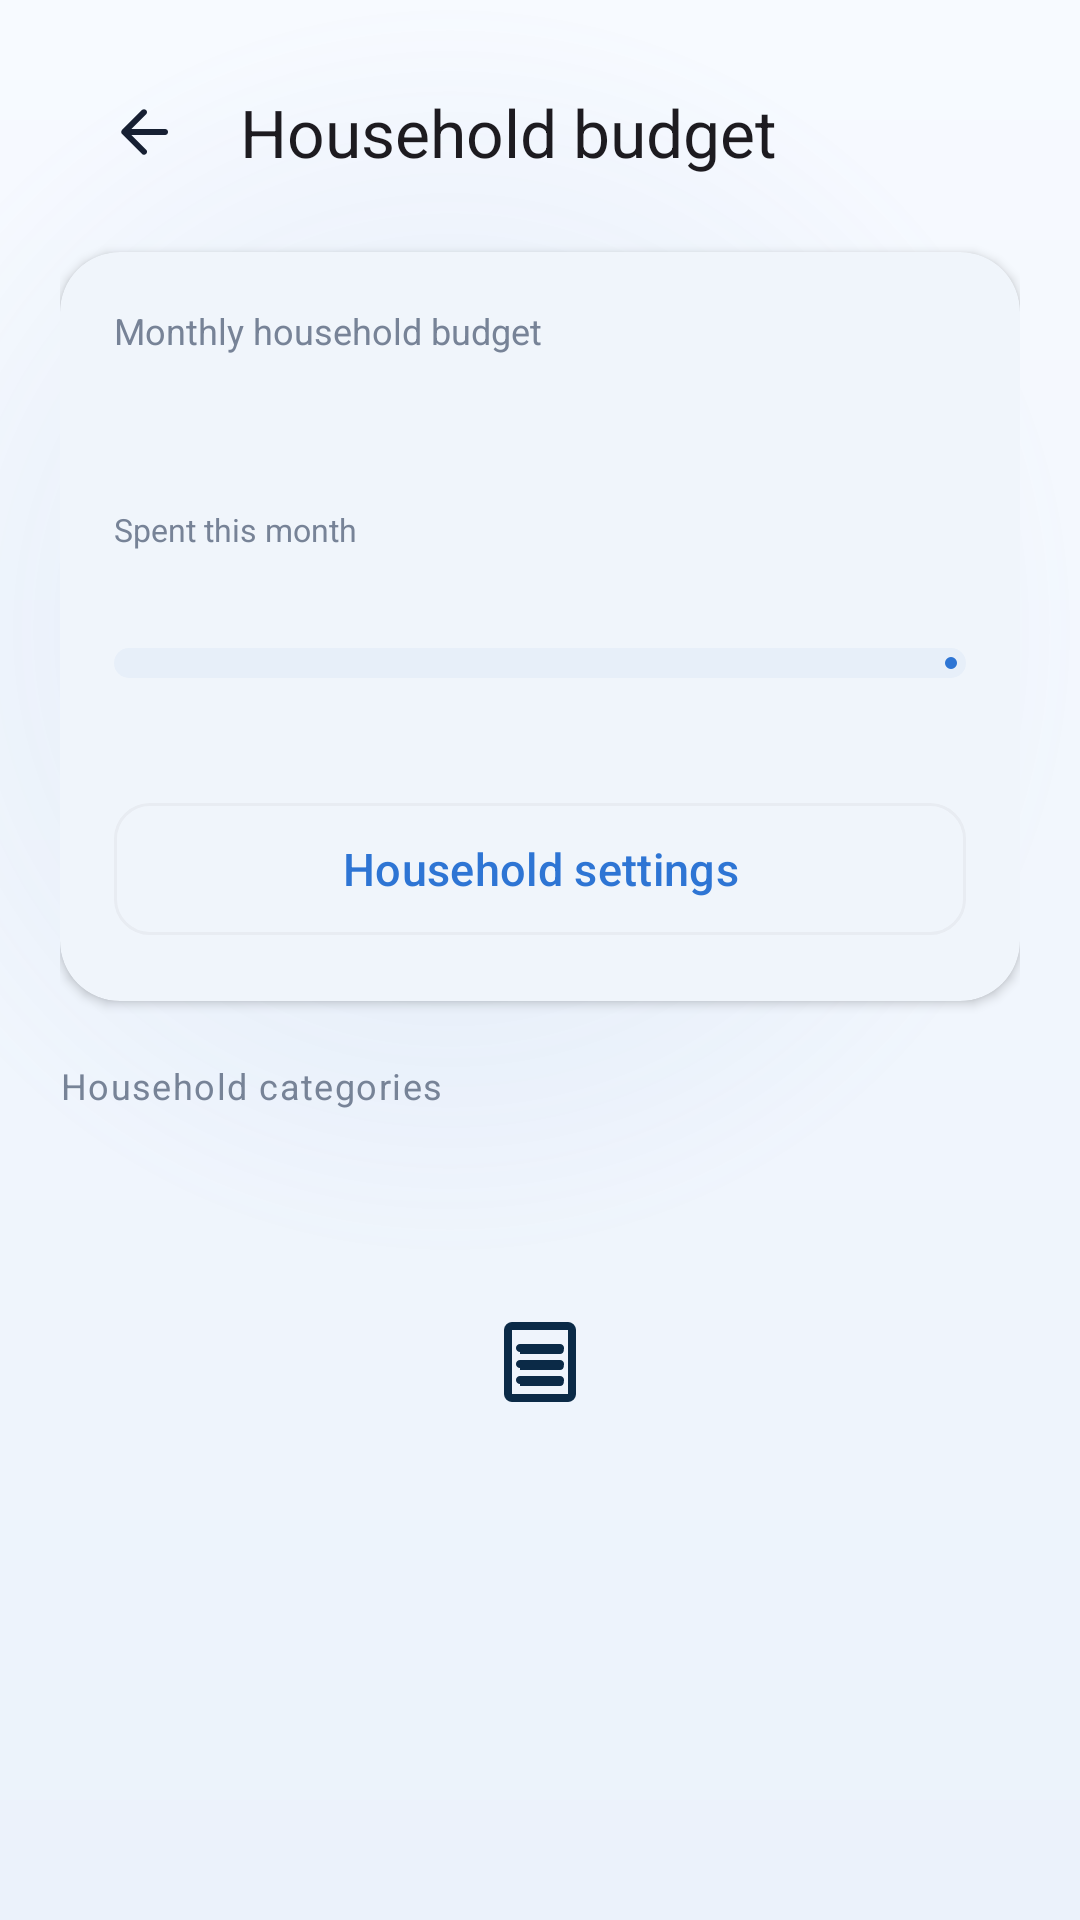

Locate icon controls on the screen. Image size 1080 x 1920, boxes as (x1, y1, x2, y2).
transactions: (504, 1322, 576, 1402)
